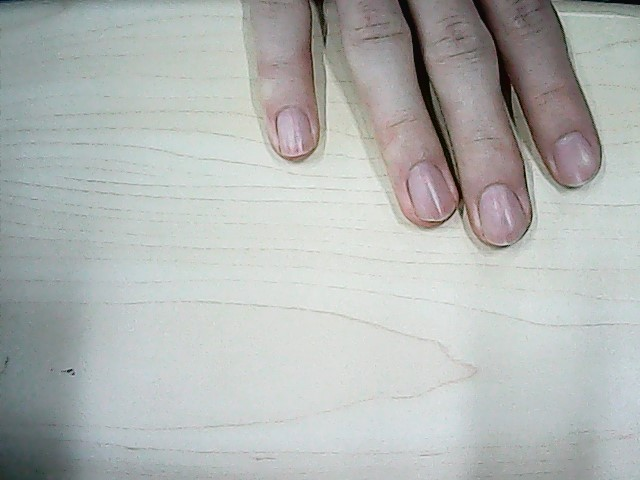nail: (403, 158, 457, 224), (478, 181, 529, 248), (550, 130, 599, 189), (273, 104, 316, 157)
